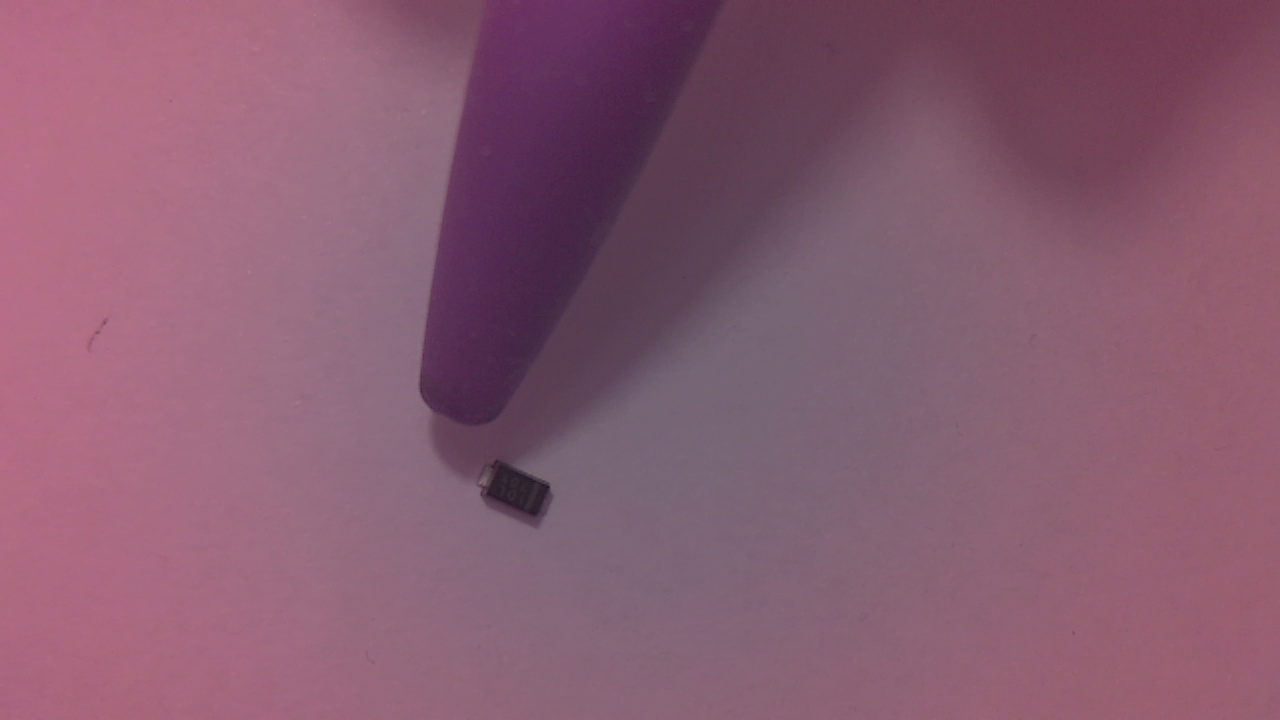Diode: (483, 463, 558, 529)
